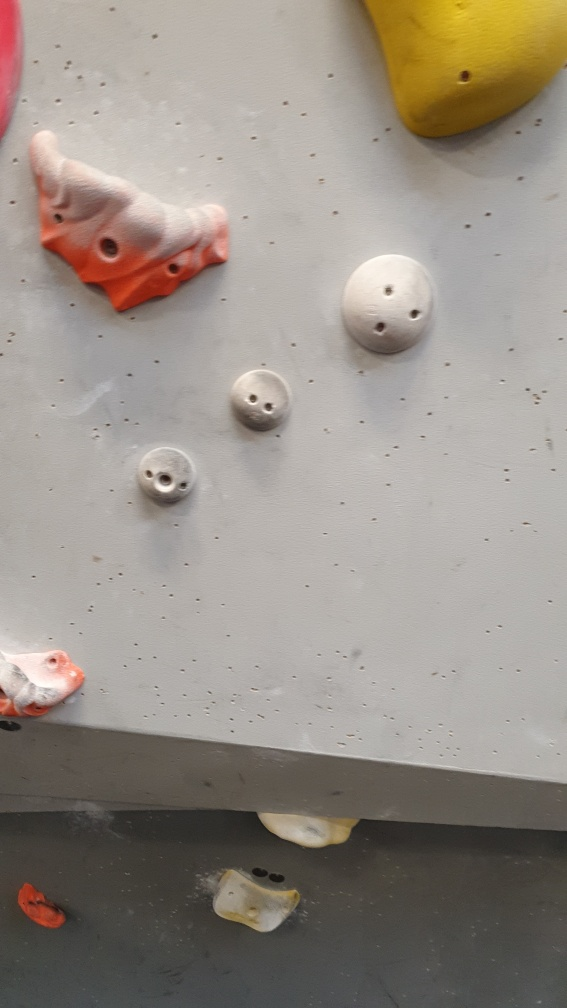Hand Start: (1, 712, 25, 735), (248, 860, 269, 885), (269, 868, 287, 886)
Jug: (27, 124, 233, 322), (14, 876, 71, 934)
Sloper: (338, 248, 441, 359), (225, 364, 296, 440), (134, 443, 197, 511)
